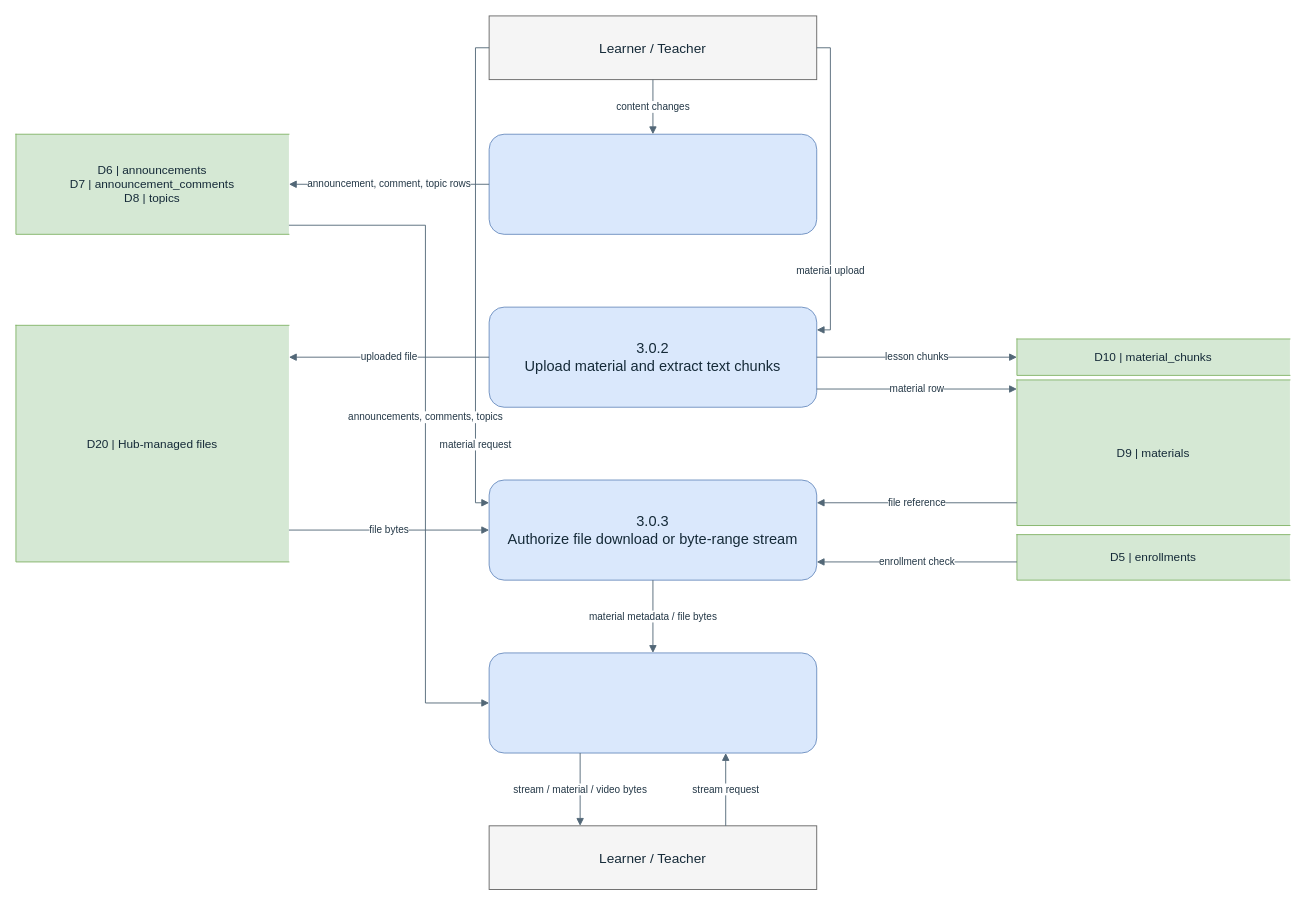
Some shapes in this 1306 by 905 pixel diagram are drawn without their labels. The shapes that lost their labels are listed below. From the top down, each one's box as (x1, y1, x2, y2) in pixels, then its label:
(488, 133, 817, 234): 3.0.1 Create or retrieve stream and topics
(488, 652, 817, 753): 3.0.4 Return content and stream updates
